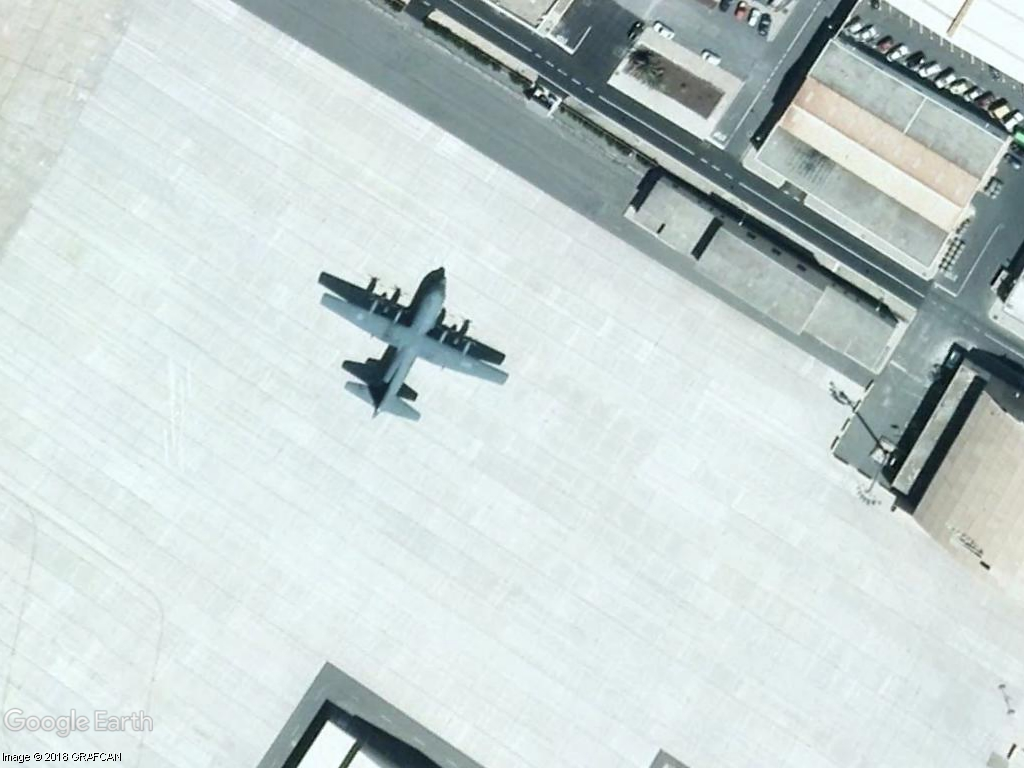propeller: (311, 263, 516, 434)
